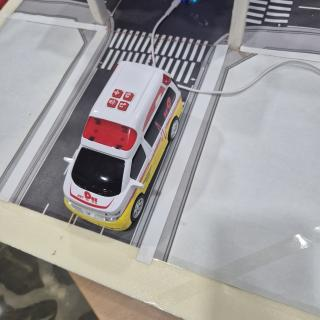Ambulance: (63, 61, 183, 230)
